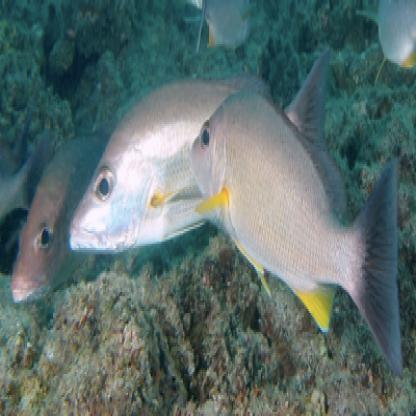Bio: (185, 95, 402, 378), (67, 51, 344, 262)
